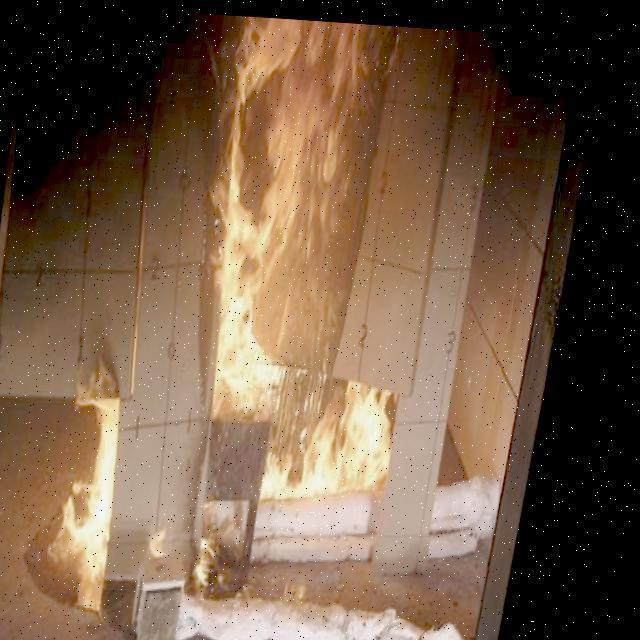Fire: (180, 28, 458, 523), (59, 374, 144, 614)
